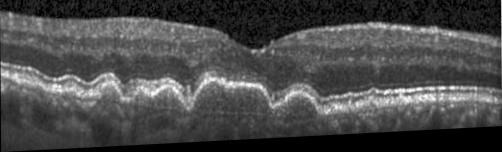retinal_drusen: (193, 83, 268, 117), (132, 90, 185, 114), (273, 97, 318, 122), (99, 86, 120, 103), (61, 89, 78, 98), (363, 103, 375, 113)
